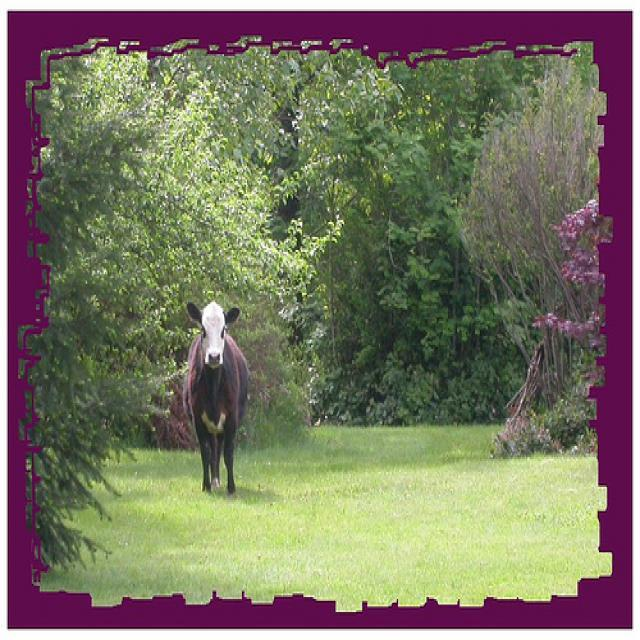cow: (178, 297, 250, 496)
